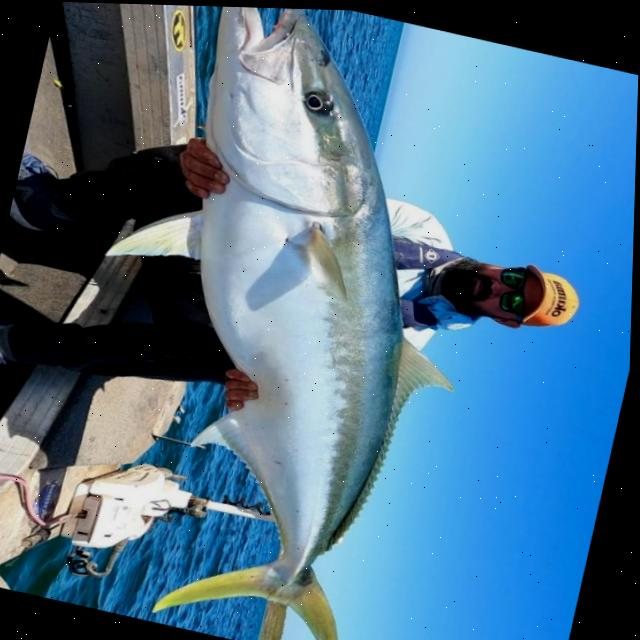Kingfish: (26, 1, 534, 640)
